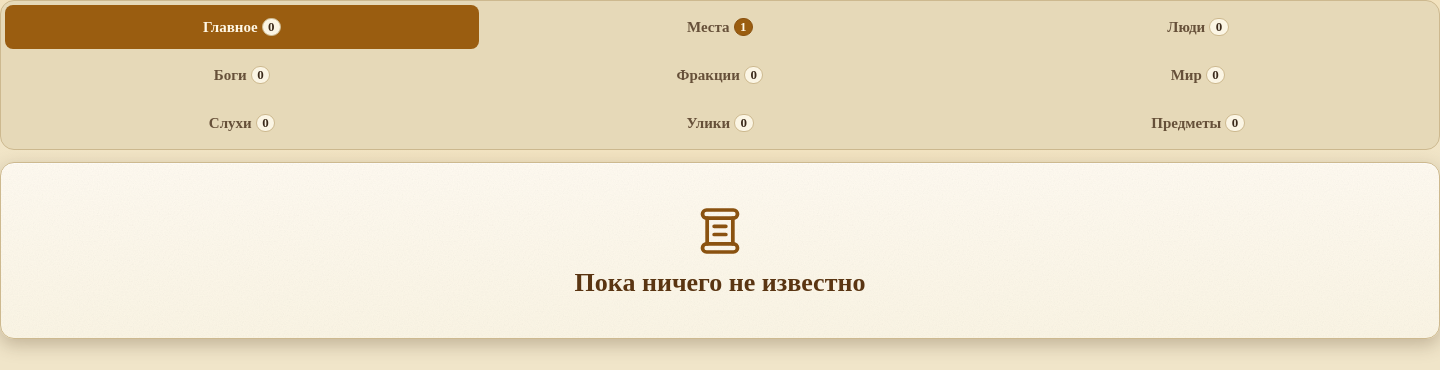
Test: карточка записи › место, где отряд был с самого начала, — без «раунда 0»
Click the tab "Места 1" at point(720, 27), box [483,5,957,49]
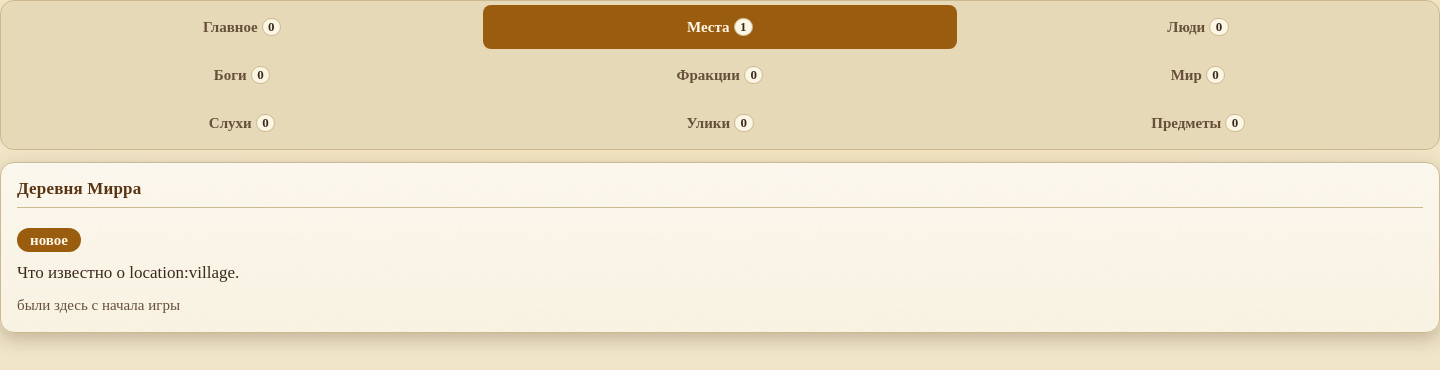
Result: the text "были здесь с начала игры" is shown at [17,297,180,313]
